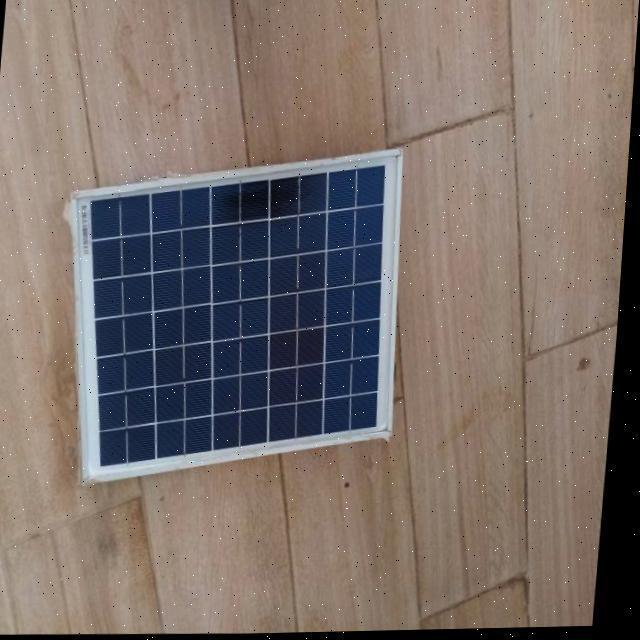Normal Solar Panel: (56, 148, 416, 488)
